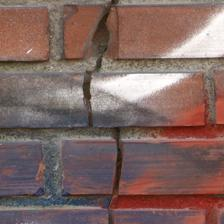Crack: (0, 0, 103, 82), (29, 10, 94, 123)
